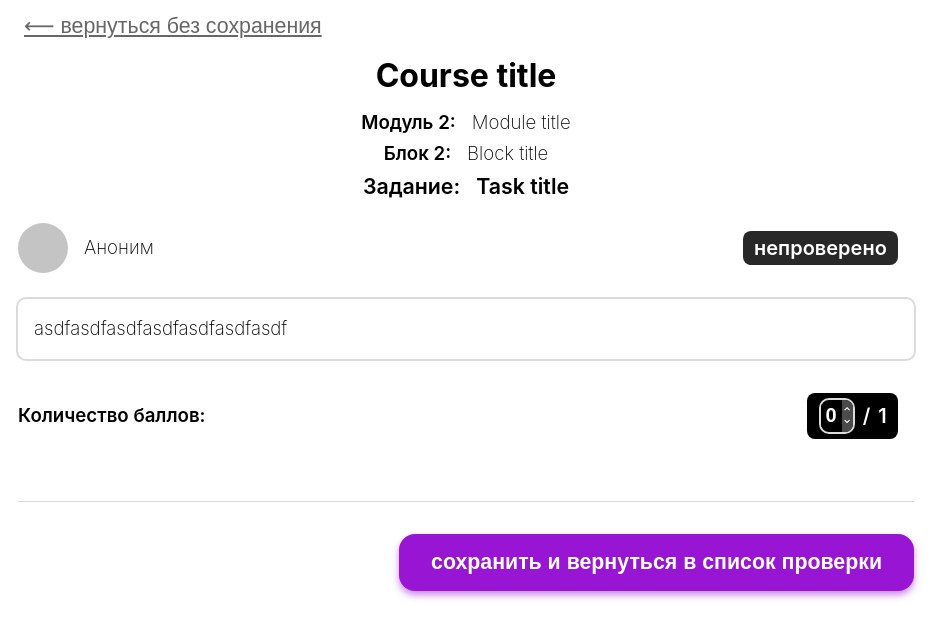
Scenario: CheckTaskComponent › reports invalid value
Type "1" into the number field labelled "Количество баллов:" at (831, 416), box [821,404,842,427]
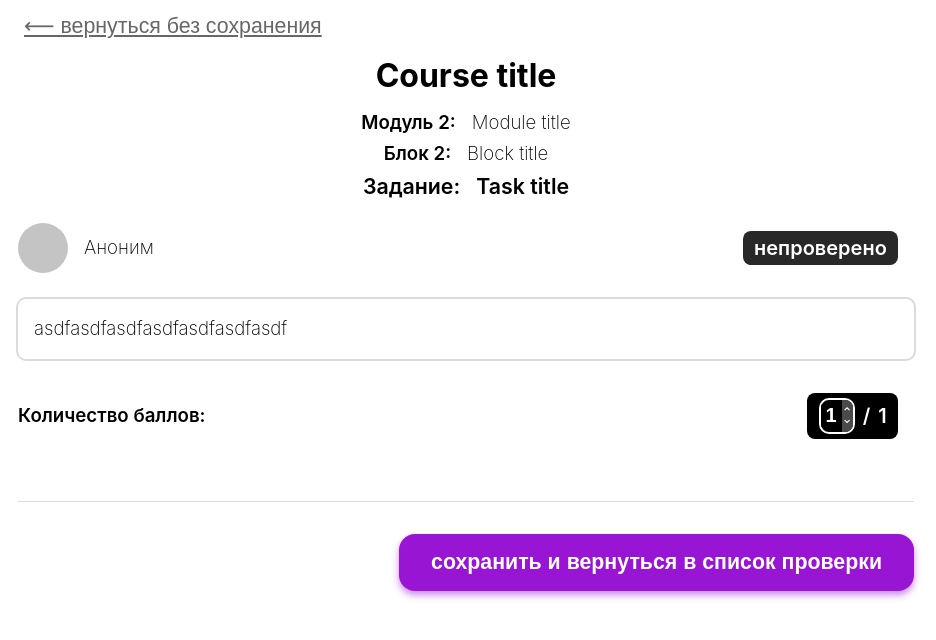
Click the button "сохранить и вернуться в список проверки" at (656, 562), box [399,534,914,590]
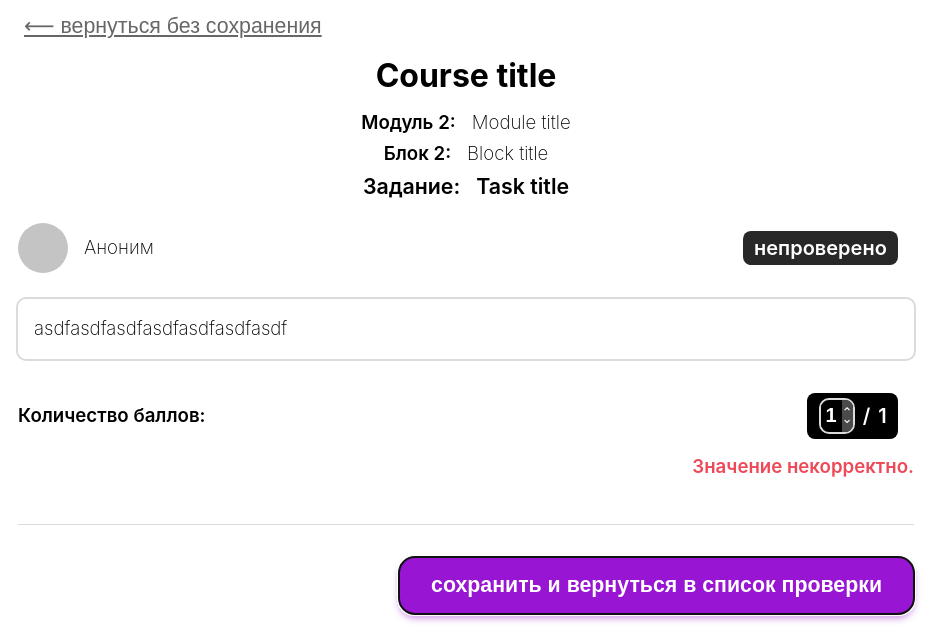
Expected: the text "Значение некорректно." is shown, [692,454,914,478]
